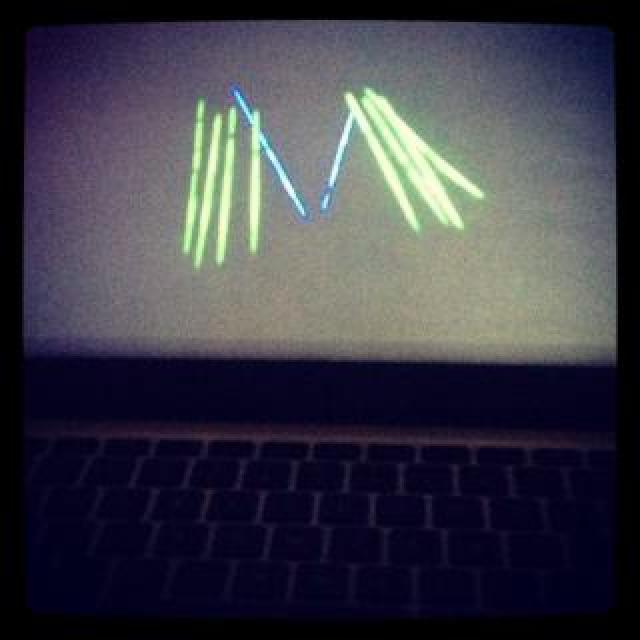laptop_computer: (12, 20, 640, 640)
